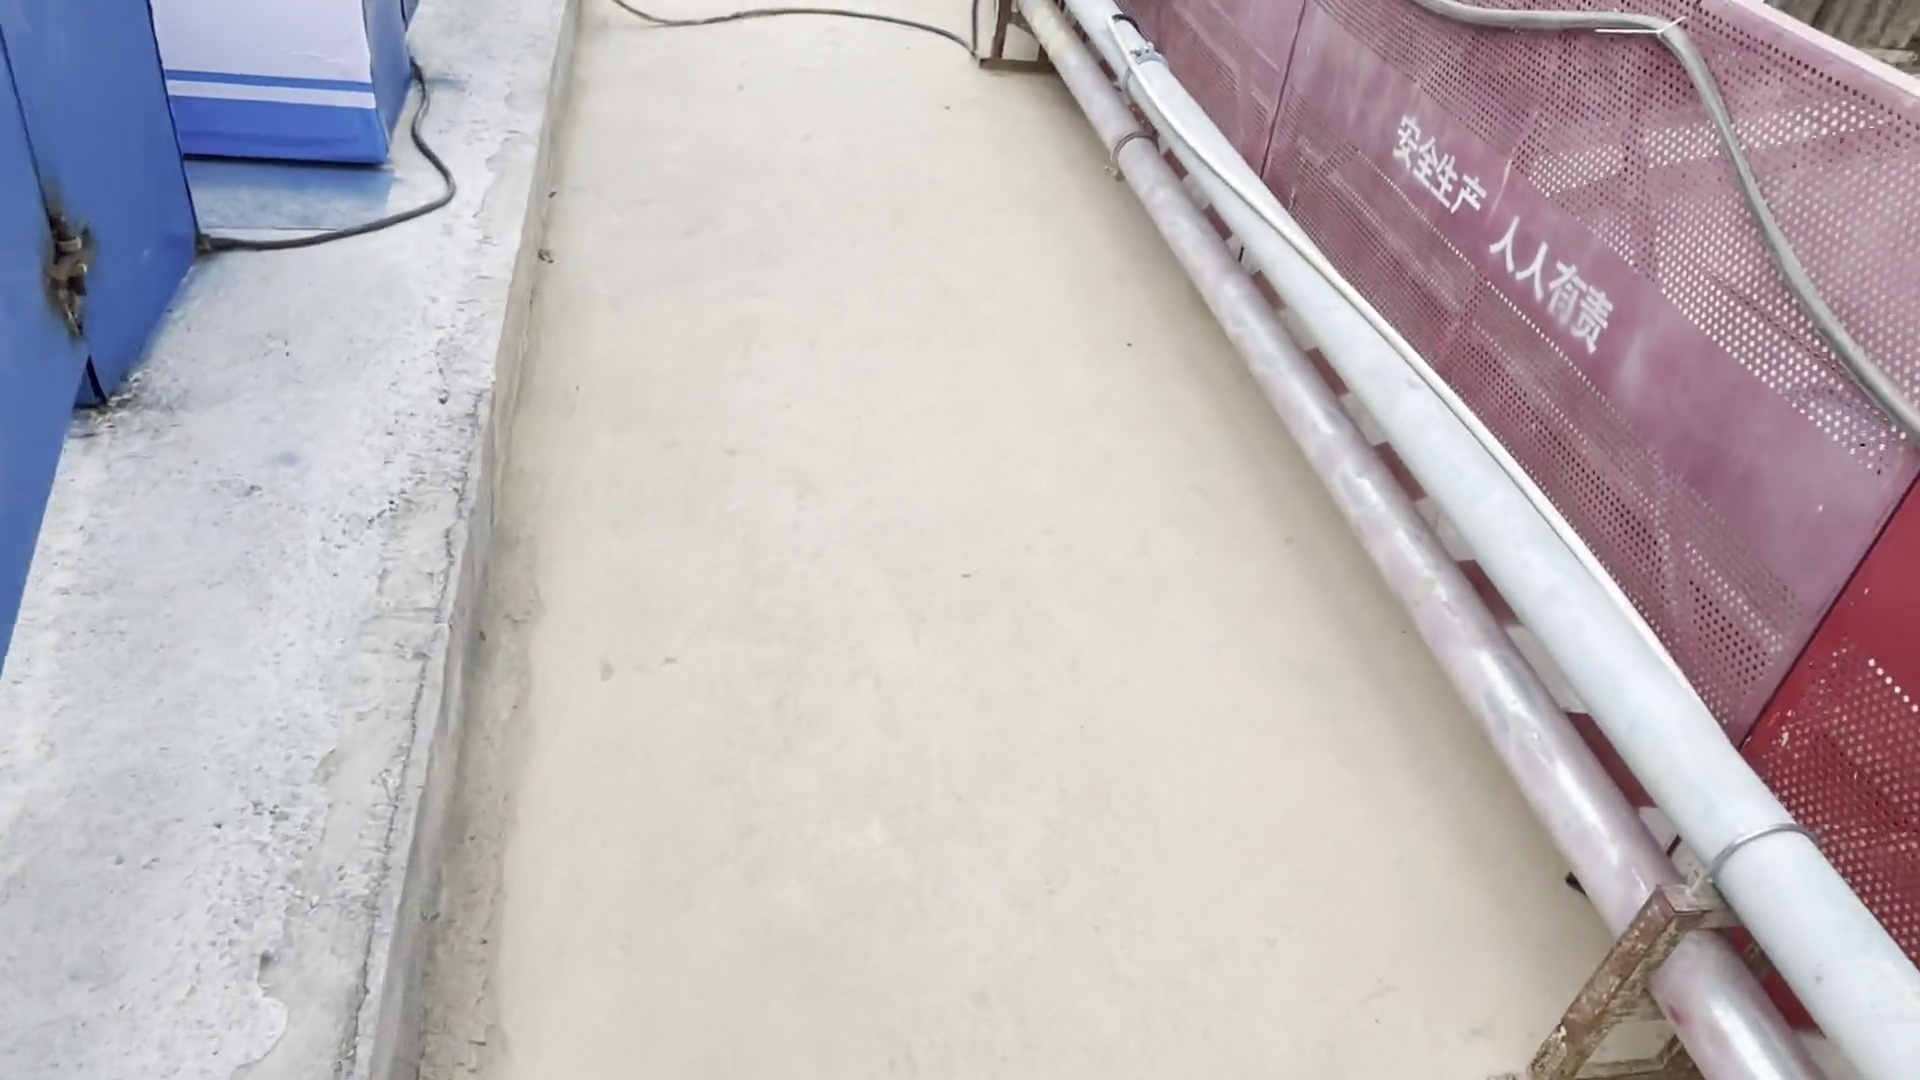fence: (1287, 1, 1912, 957)
